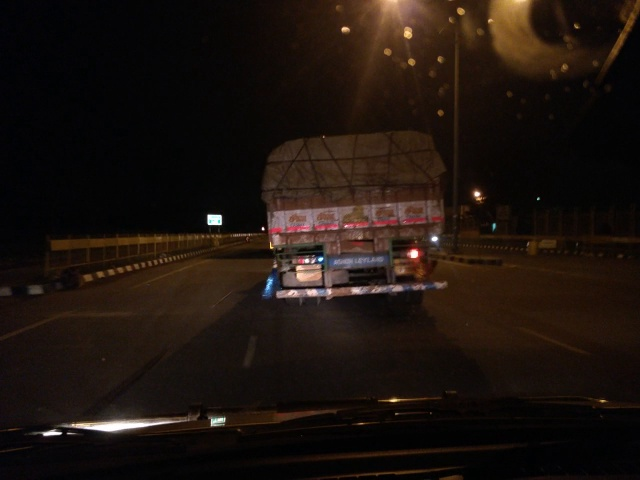truck: (256, 130, 451, 307)
